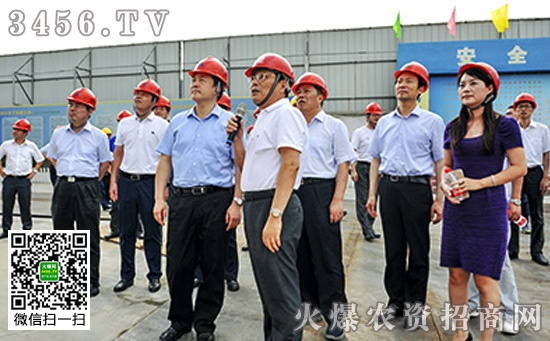red: (243, 45, 291, 108), (184, 51, 228, 105), (456, 60, 500, 106), (394, 61, 430, 104), (292, 72, 326, 113), (66, 84, 97, 127), (130, 77, 160, 112), (514, 92, 535, 120), (150, 93, 172, 117), (363, 100, 382, 126), (10, 118, 30, 141)
